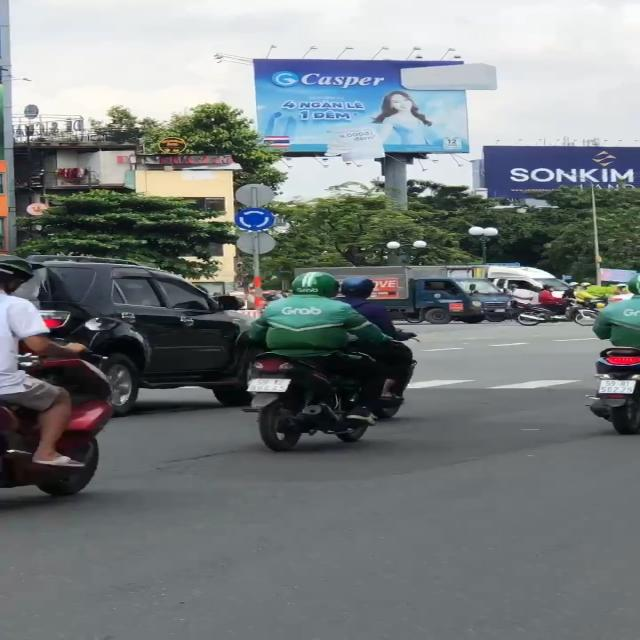Bien bao noi giao nhau chay theo vong xuyen: (234, 206, 279, 232)
